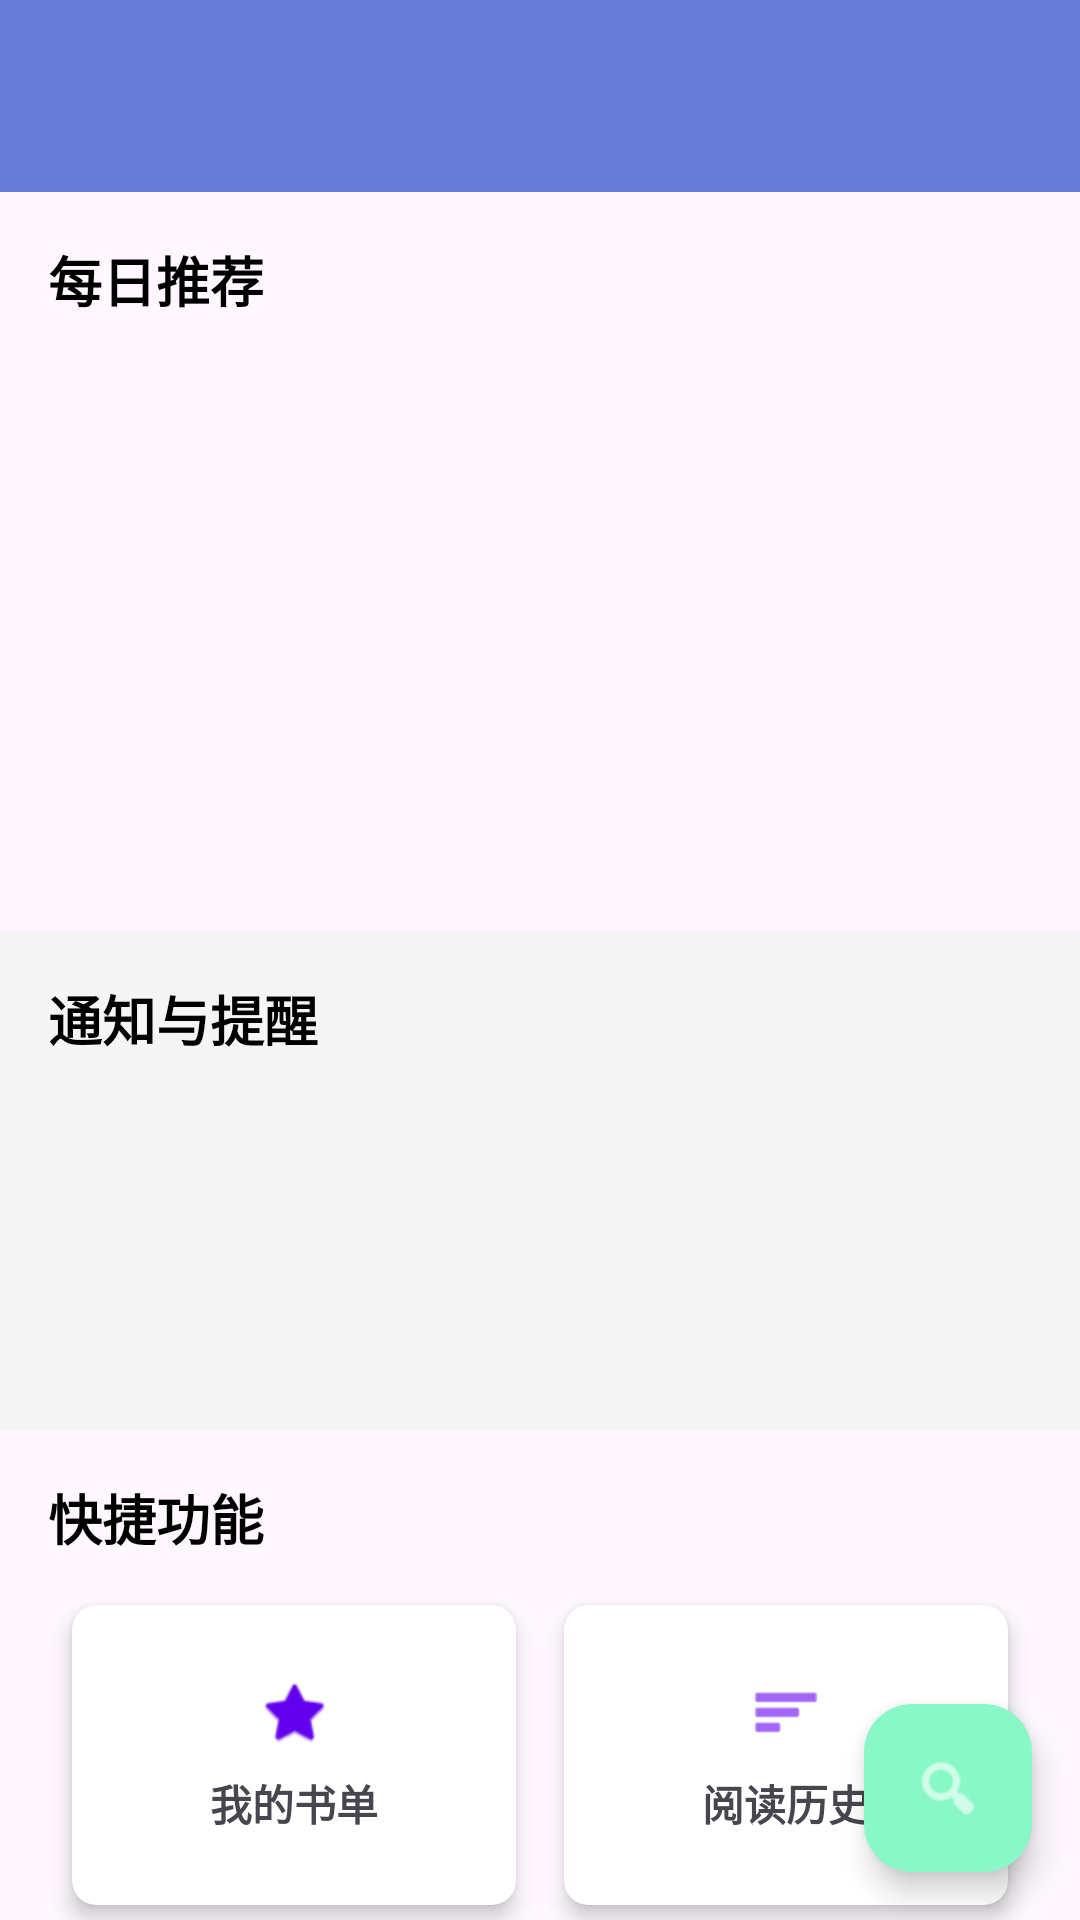

Icons on this 1080px x 1920px Android screen, each with its box as (x1, y1, x2, y2):
search: (864, 1704, 1032, 1872)
sort by size: (755, 1692, 817, 1733)
star: (264, 1683, 325, 1742)
